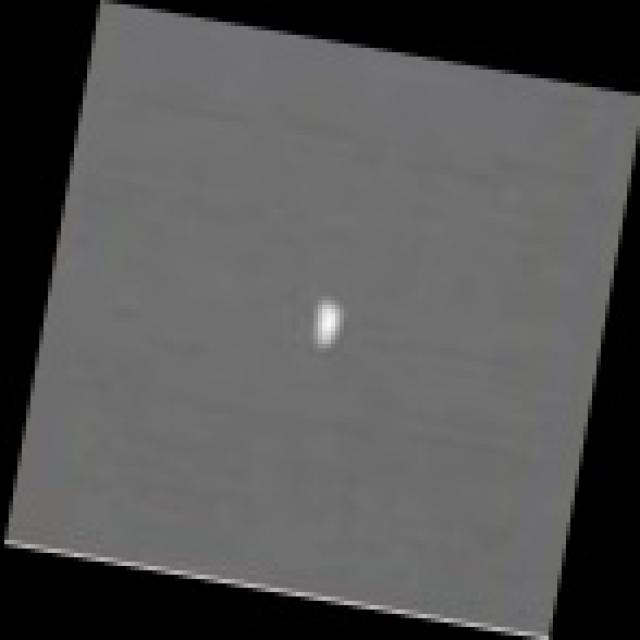Defect1: (263, 274, 396, 373)
